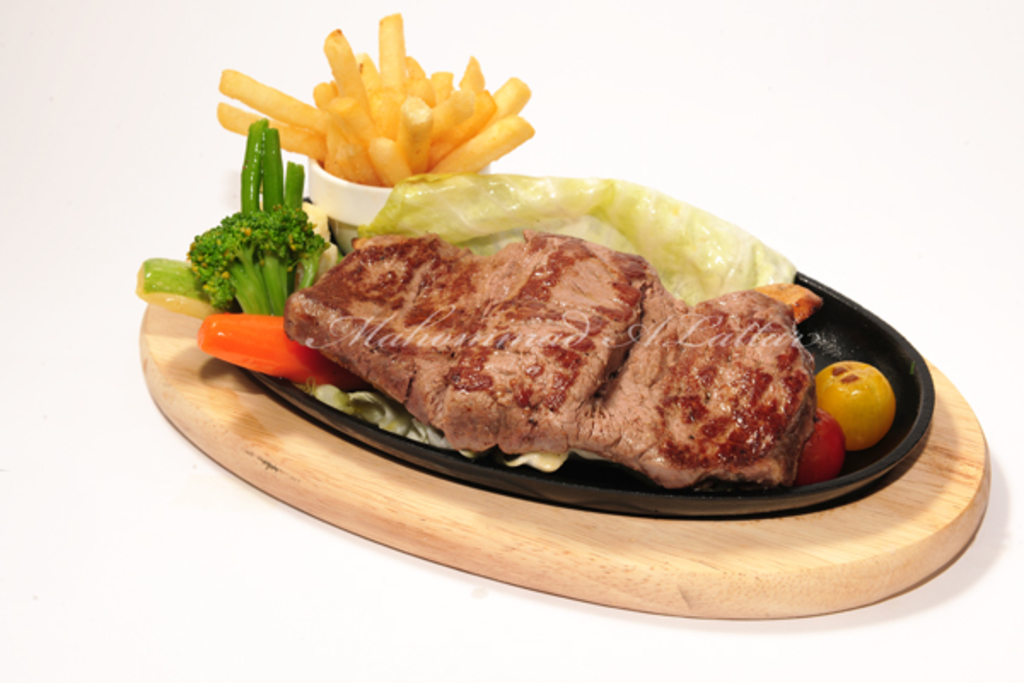French fries: (406, 90, 494, 177), (431, 110, 534, 182), (220, 68, 327, 129), (314, 30, 372, 138), (322, 75, 370, 186), (218, 102, 314, 150), (368, 88, 409, 184), (401, 97, 430, 177), (488, 68, 525, 122), (377, 13, 402, 88), (455, 47, 486, 95), (399, 52, 423, 102), (424, 71, 443, 99)
